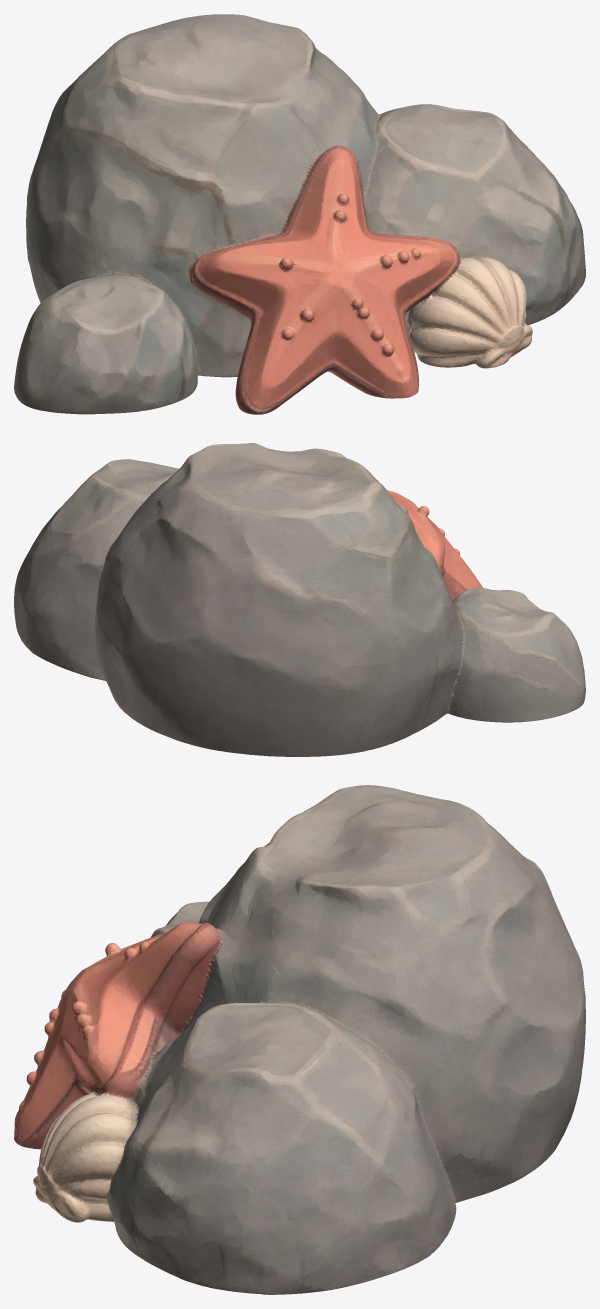
The model's file is shoreline-rock-starfish-shell-cluster-meshy6-web-v1.glb.
The picture shows the model from 3 angles, top to bottom: view 1: azimuth 30°, elevation 25°; view 2: azimuth 150°, elevation 25°; view 3: azimuth 270°, elevation 25°; orthographic projection. The views are drawn at different scales.
Size of the model in its own units: 1.9 by 0.7899 by 1.41.
1 material, 1 textured.
